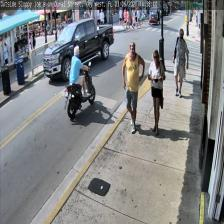person: (122, 42, 145, 132), (148, 49, 165, 133), (172, 28, 188, 96)
